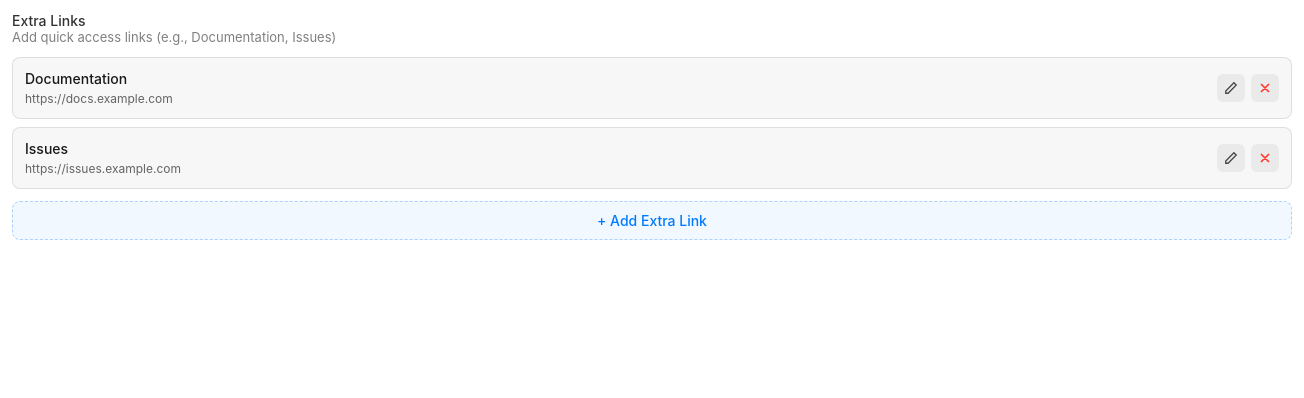
Test case: ExtraLinksSection › should open edit form when edit button is clicked
This screenshot has width=1304, height=398.
Click the 1st button with class "link-action-btn" at [1231, 88], box [1217,74,1245,102]
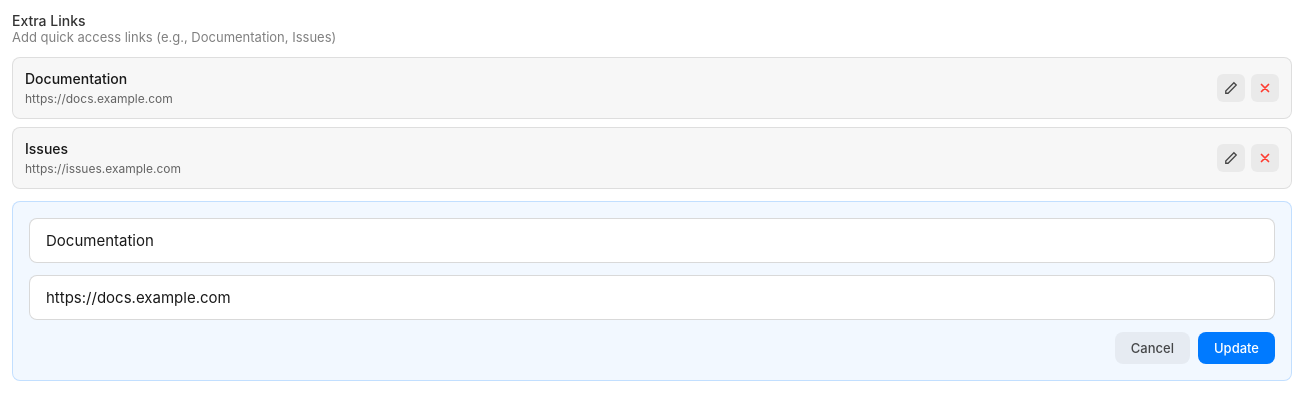
Expected: the element with class "link-form" is shown, [12,201,1292,381]
Expected: the 1st field holds "Documentation", [29,218,1275,263]
Expected: the 2nd field holds "https://docs.example.com", [29,275,1275,320]
